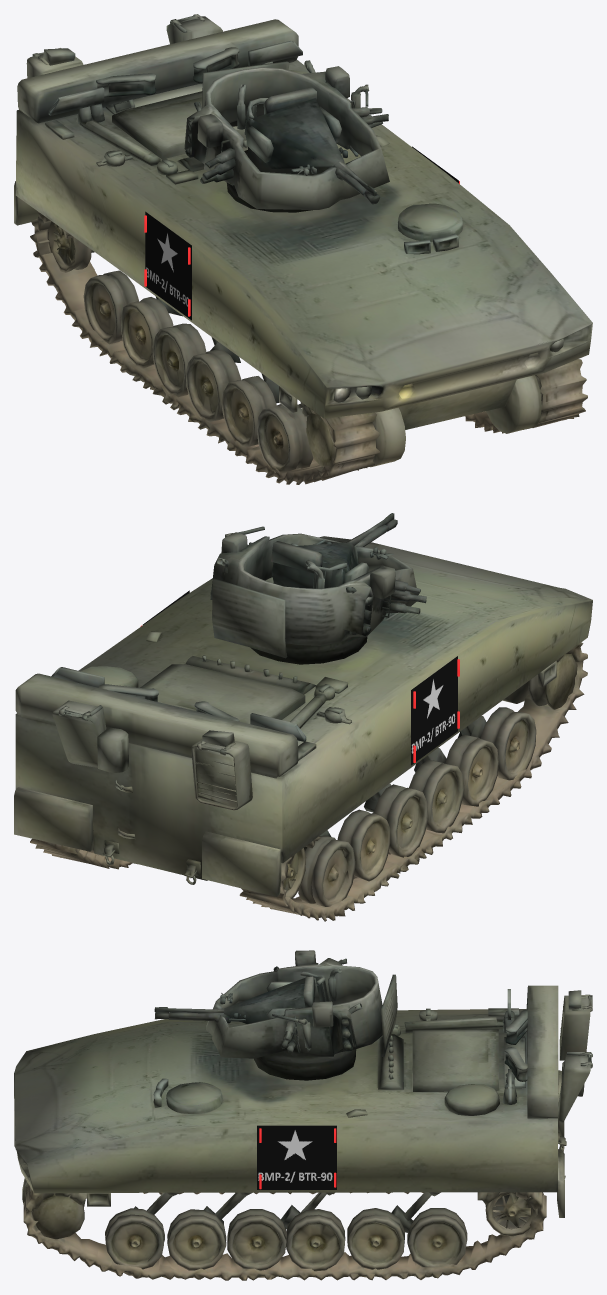
3 views of the same model, one above another, from view 1: azimuth 30°, elevation 25°; view 2: azimuth 150°, elevation 25°; view 3: azimuth 270°, elevation 25° (orthographic). The views are drawn at different scales.
Parts seen in each view (by area): view 1: tripo_node_b858fb1a.002, tripo_node_b858fb1a.006, Plane.004; view 2: tripo_node_b858fb1a.002, tripo_node_b858fb1a.006, Plane.004; view 3: tripo_node_b858fb1a.002, tripo_node_b858fb1a.006, Plane.006.
Part boxes in pixels (left/top/right/bottom): tripo_node_b858fb1a.002: left=14, top=14, right=592, bottom=484; tripo_node_b858fb1a.006: left=184, top=60, right=389, bottom=212; Plane.004: left=144, top=211, right=191, bottom=320; tripo_node_b858fb1a.002: left=14, top=536, right=592, bottom=921; tripo_node_b858fb1a.006: left=210, top=513, right=426, bottom=664; Plane.004: left=411, top=656, right=459, bottom=765; tripo_node_b858fb1a.002: left=14, top=985, right=592, bottom=1280; tripo_node_b858fb1a.006: left=154, top=950, right=397, bottom=1080; Plane.006: left=257, top=1125, right=336, bottom=1189.
Size of the model in its own units: 1.36 by 1.37 by 2.93.
Materials: 3 (2 with a texture image).
